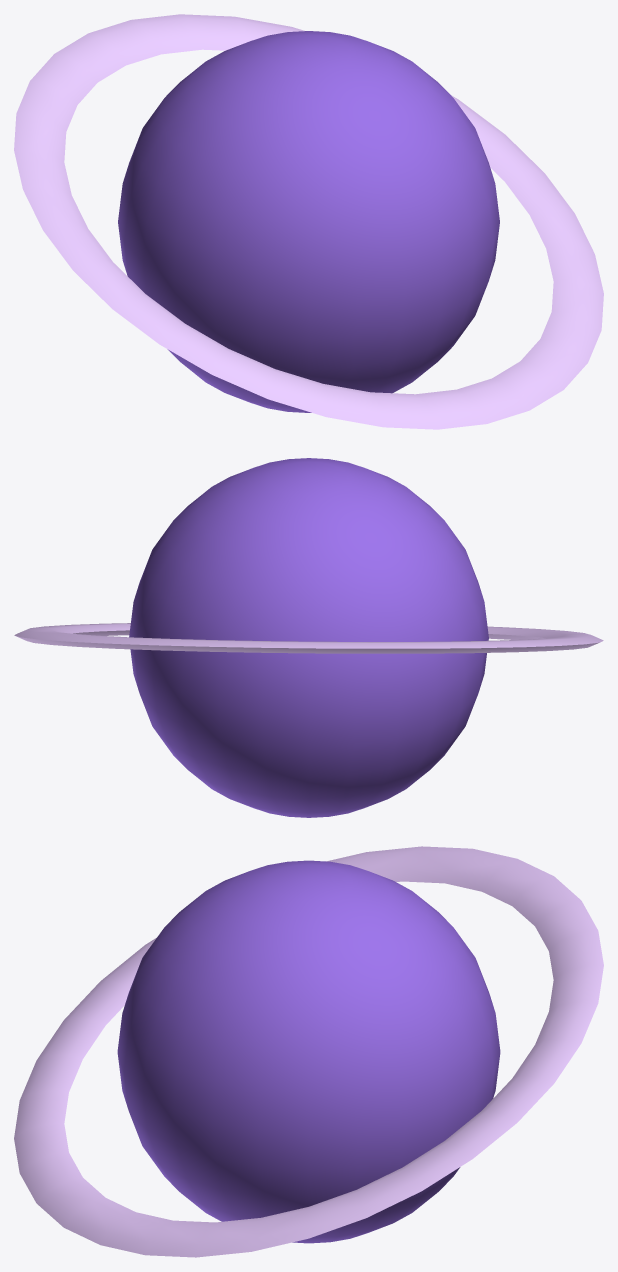
The model's file is Planet.fbx.
3 views of the same model, one above another, from view 1: azimuth 30°, elevation 25°; view 2: azimuth 150°, elevation 25°; view 3: azimuth 270°, elevation 25° (orthographic). The views are drawn at different scales.
Parts seen in each view (by area): view 1: Planet; view 2: Planet; view 3: Planet.
Boxes of the visible parts, x1,y1,x2,y2 form: Planet: (14, 14, 603, 429); Planet: (14, 458, 603, 817); Planet: (14, 846, 603, 1257).
Bounding box in the file's own units: 3215 × 2000 × 3081.
